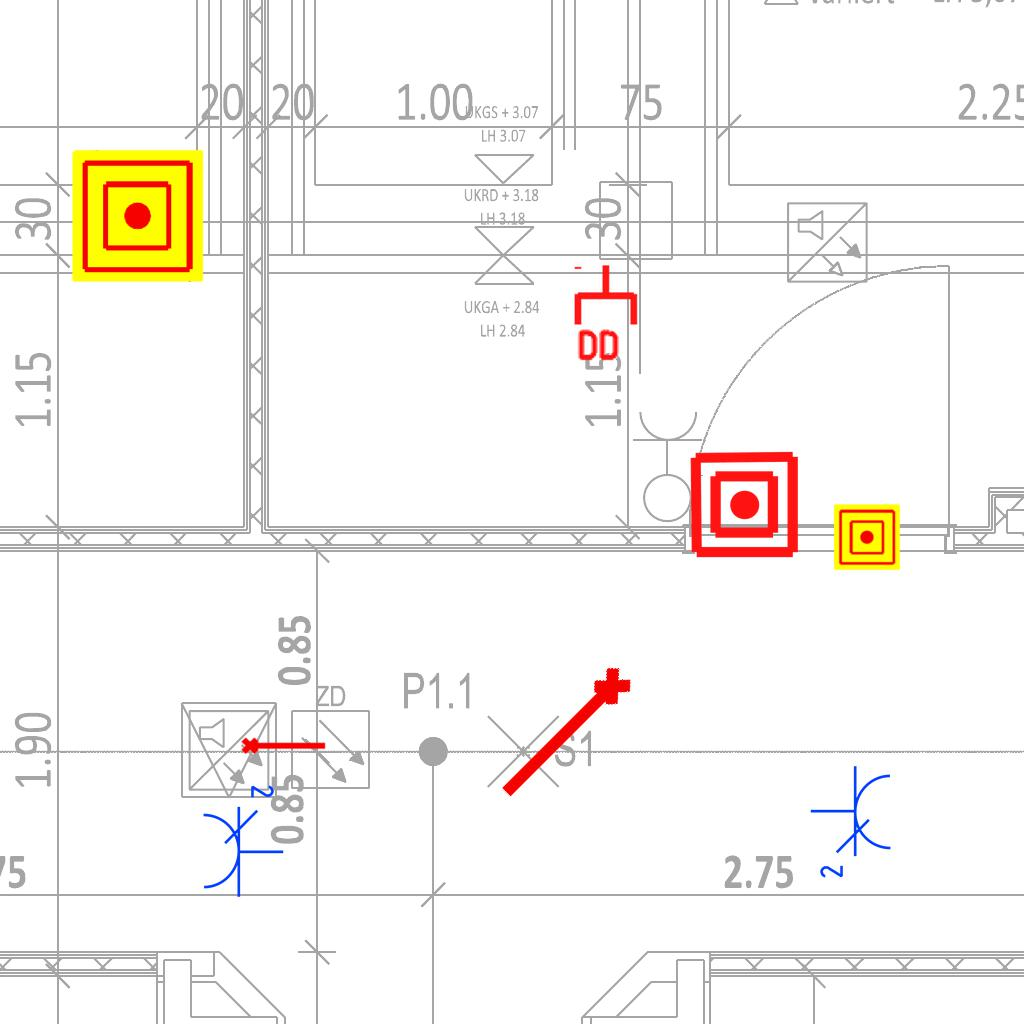ASR_Ansaugoeffnung: (487, 657, 645, 815), (240, 733, 328, 756)
Datenanschluss_zweifach: (573, 262, 642, 365)
NAM-Nichtautomatischer_Melder: (72, 150, 204, 282), (688, 448, 801, 561), (834, 504, 900, 570)
Schukosteckdose_mehrfach: (809, 764, 897, 885), (197, 778, 285, 899)
